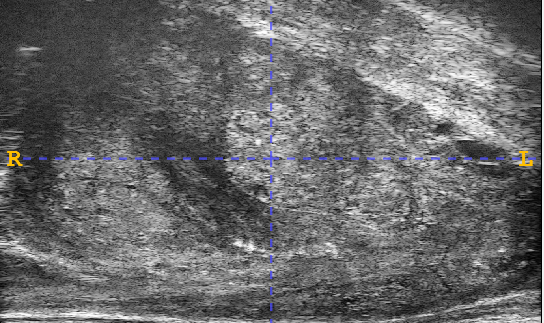calcifications: (213, 221, 348, 260)
